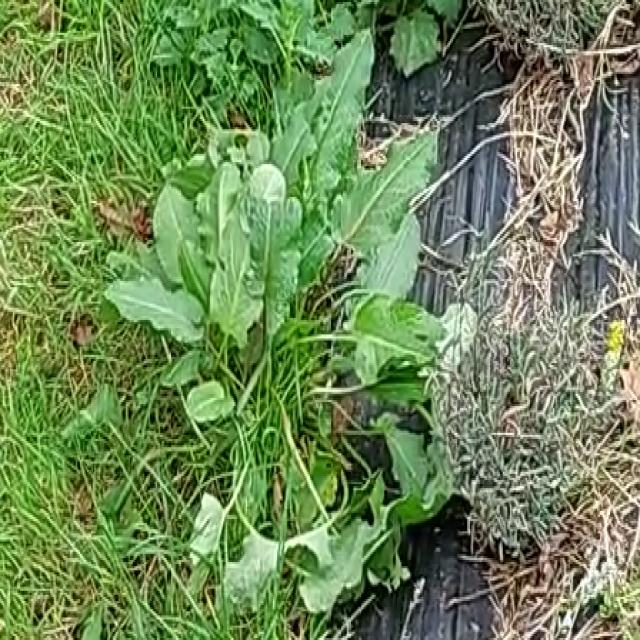organic waste: (93, 20, 474, 597)
